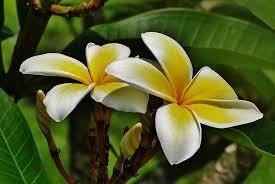frangipani: (105, 32, 264, 165)
